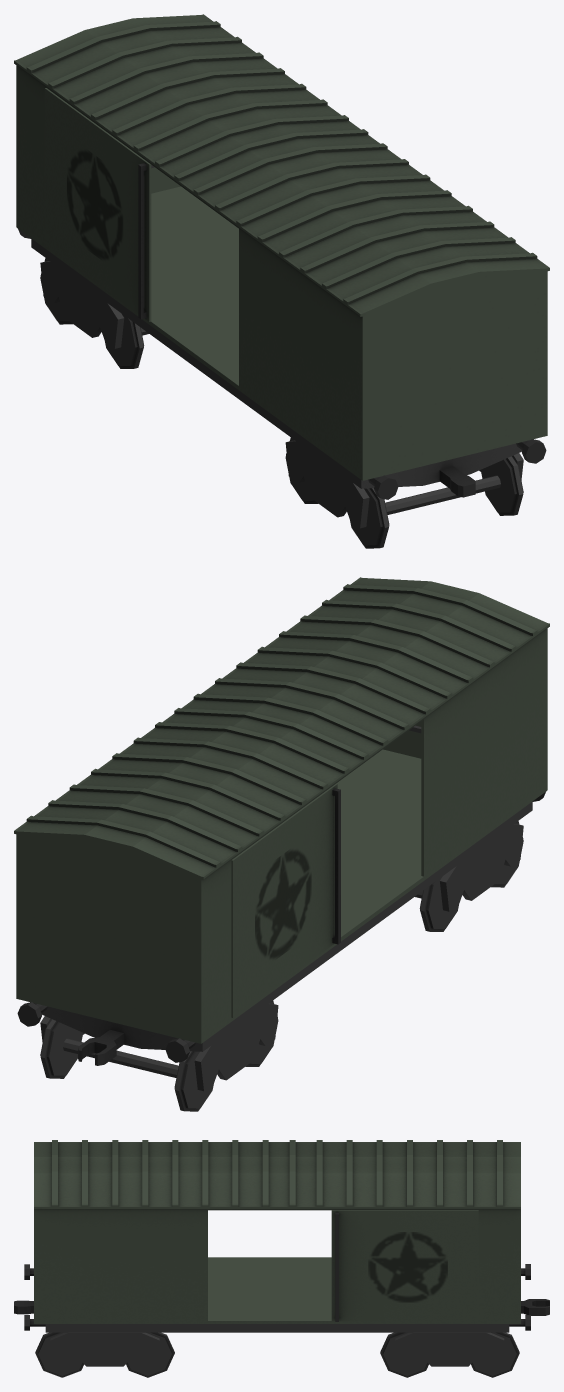
Rendered from Train_Car.fbx.
The picture shows the model from 3 angles, top to bottom: view 1: azimuth 30°, elevation 25°; view 2: azimuth 150°, elevation 25°; view 3: azimuth 270°, elevation 25°; orthographic projection. The views are drawn at different scales.
Visible parts, largest first — view 1: Train_Car_Closed_Green, Train_Car_Closed_Door_2_Green, Train_Car, Train_Car_Wheel_2 (×2), Train_Car_Wheel_1, Train_Car_Wheel_Bar_1; view 2: Train_Car_Closed_Green, Train_Car_Closed_Door_2_Green, Train_Car, Train_Car_Wheel_2 (×2), Train_Car_Wheel_1, Train_Car_Wheel_Bar_2; view 3: Train_Car_Closed_Green, Train_Car_Closed_Door_1_Green, Train_Car, Train_Car_Wheel_1 (×4).
Part boxes in pixels (x1=…): Train_Car_Closed_Green: x1=14, y1=14, x2=549, y2=480; Train_Car_Closed_Door_2_Green: x1=44, y1=88, x2=151, y2=321; Train_Car: x1=31, y1=165, x2=530, y2=528; Train_Car_Wheel_2 (×2): x1=105, y1=313, x2=389, y2=548; Train_Car_Wheel_1: x1=481, y1=456, x2=523, y2=515; Train_Car_Wheel_Bar_1: x1=385, y1=475, x2=500, y2=514; Train_Car_Closed_Green: x1=14, y1=577, x2=549, y2=1043; Train_Car_Closed_Door_2_Green: x1=231, y1=784, x2=340, y2=1017; Train_Car: x1=33, y1=725, x2=532, y2=1091; Train_Car_Wheel_2 (×2): x1=174, y1=876, x2=458, y2=1111; Train_Car_Wheel_1: x1=40, y1=1019, x2=82, y2=1078; Train_Car_Wheel_Bar_2: x1=63, y1=1038, x2=178, y2=1077; Train_Car_Closed_Green: x1=34, y1=1140, x2=520, y2=1323; Train_Car_Closed_Door_1_Green: x1=331, y1=1210, x2=478, y2=1321; Train_Car: x1=14, y1=1299, x2=549, y2=1366; Train_Car_Wheel_1 (×4): x1=35, y1=1332, x2=519, y2=1377.
Bounding box in the file's own units: 5.6 × 7.26 × 18.5.
